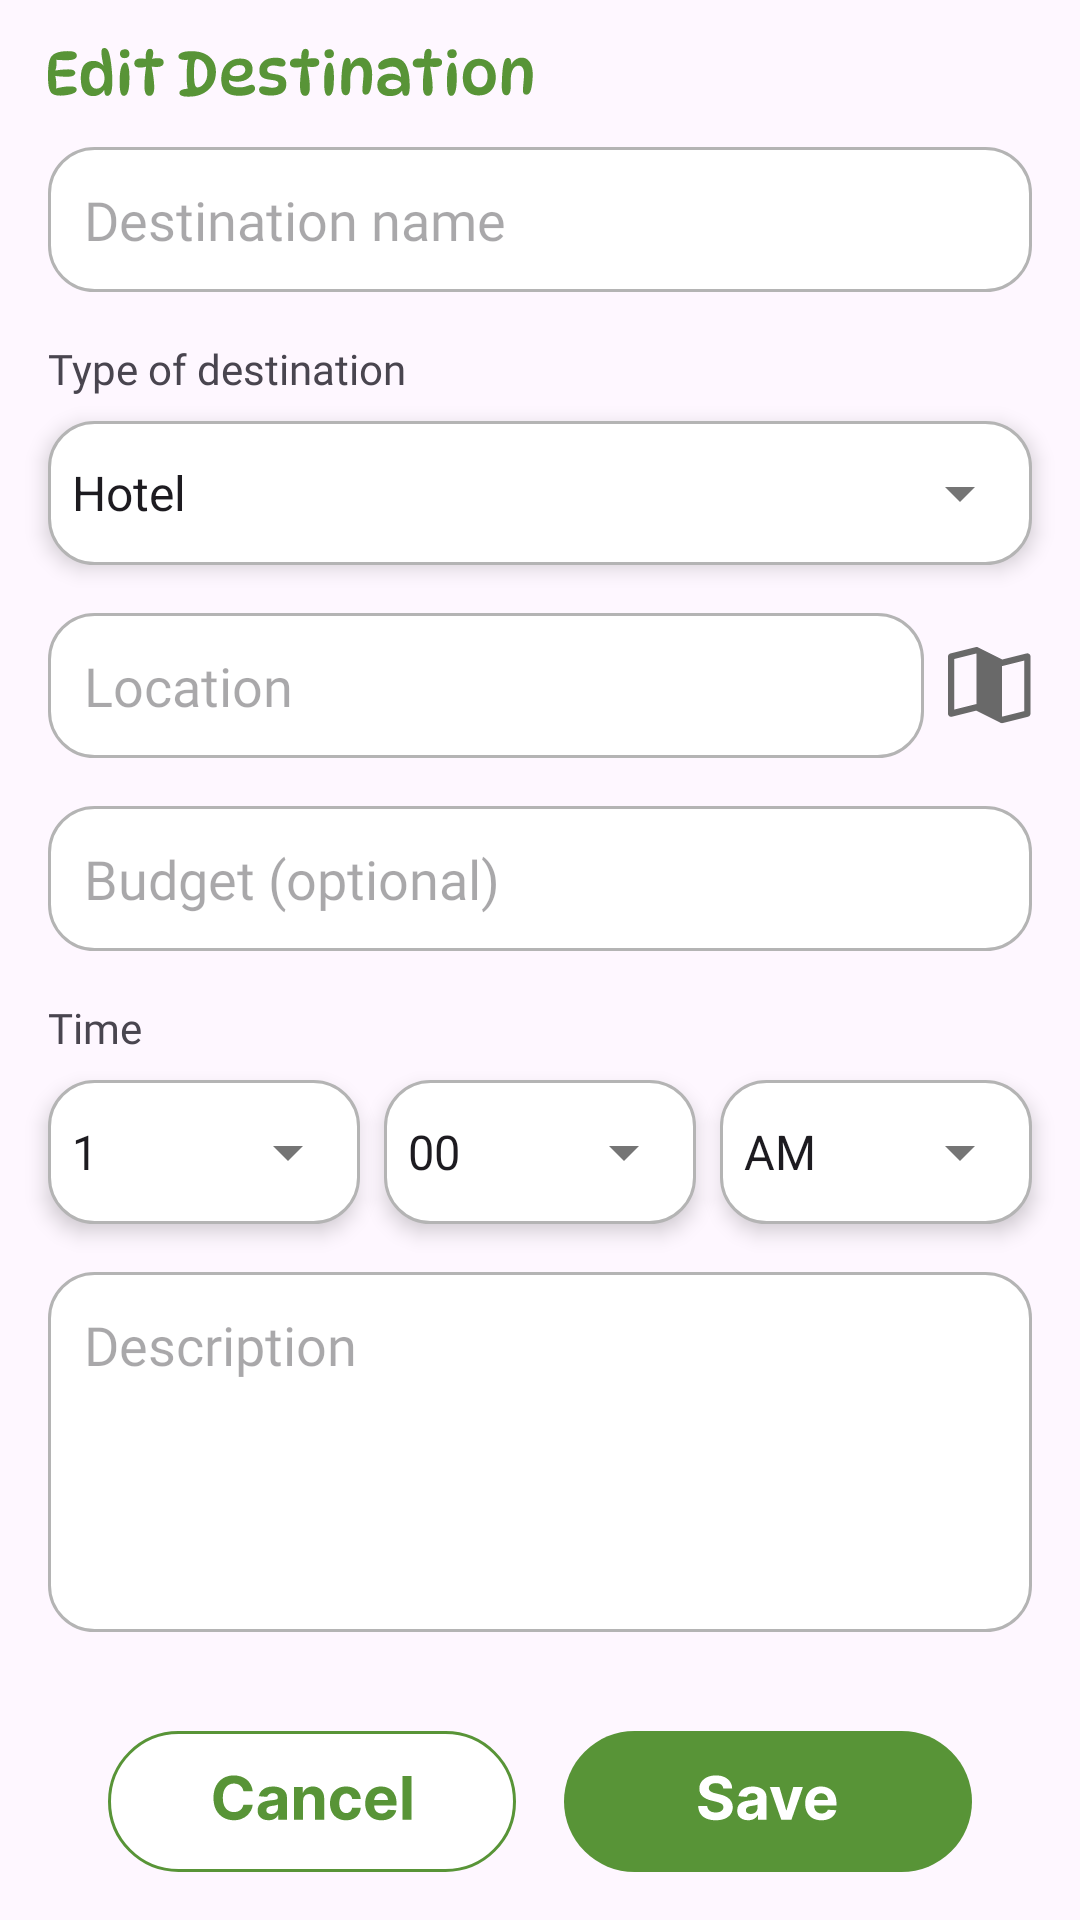

Point at icon controls on the screen. Image size 1080w x 1920h, points as (x=x, y=y).
Search Map: (x=989, y=685)
